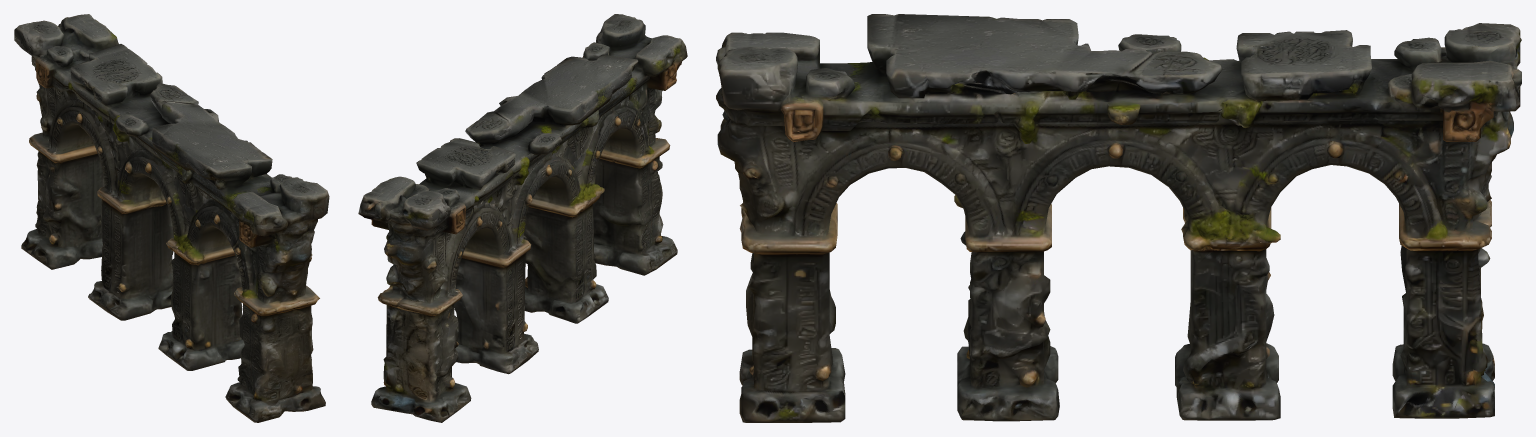
Rendered from ch6_sunken_aqueduct_arches_LOD0.glb.
The picture shows the model from 3 angles, left to right: view 1: azimuth 30°, elevation 25°; view 2: azimuth 150°, elevation 25°; view 3: azimuth 270°, elevation 25°; orthographic projection. The views are drawn at different scales.
Parts seen in each view (by area): view 1: tripo_node_0f47f7d9-d05a-4230-95cf-df8e52c144d8; view 2: tripo_node_0f47f7d9-d05a-4230-95cf-df8e52c144d8; view 3: tripo_node_0f47f7d9-d05a-4230-95cf-df8e52c144d8.
Part boxes in pixels (left/top/right/bottom): tripo_node_0f47f7d9-d05a-4230-95cf-df8e52c144d8: left=14, top=14, right=329, bottom=422; tripo_node_0f47f7d9-d05a-4230-95cf-df8e52c144d8: left=358, top=14, right=687, bottom=422; tripo_node_0f47f7d9-d05a-4230-95cf-df8e52c144d8: left=716, top=14, right=1521, bottom=422.
Size of the model in its own units: 0.1895 by 0.4824 by 0.998.
1 material, 1 textured.
